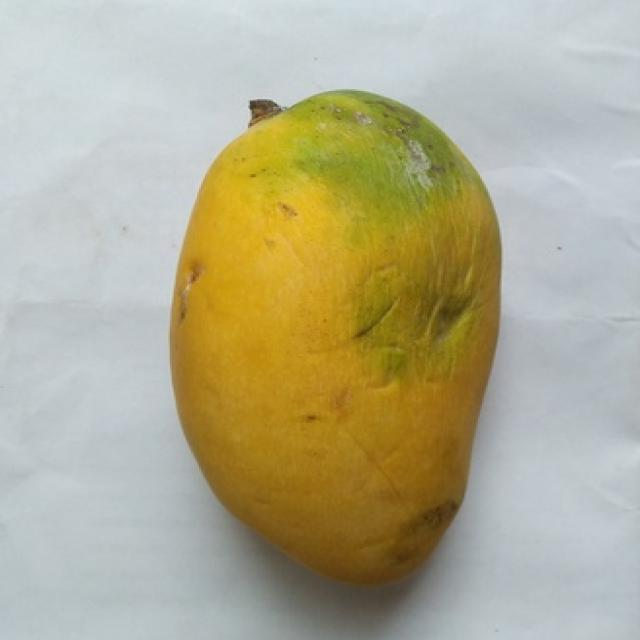Mango: (170, 93, 498, 581)
